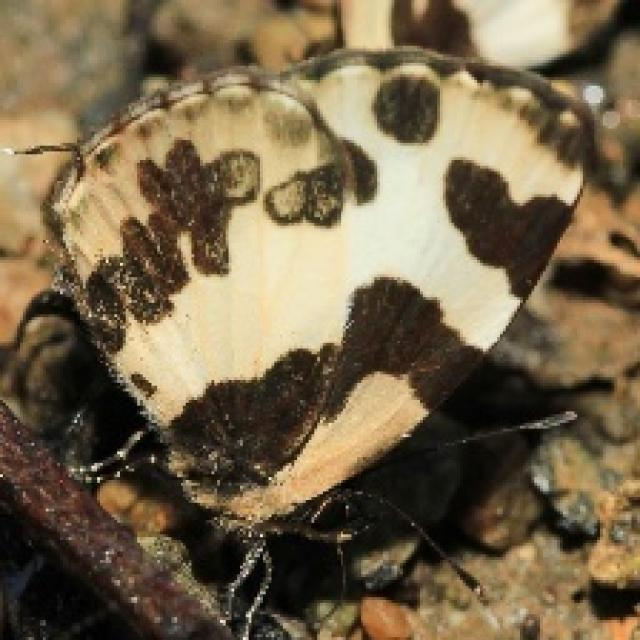butterfly: (0, 40, 600, 637)
